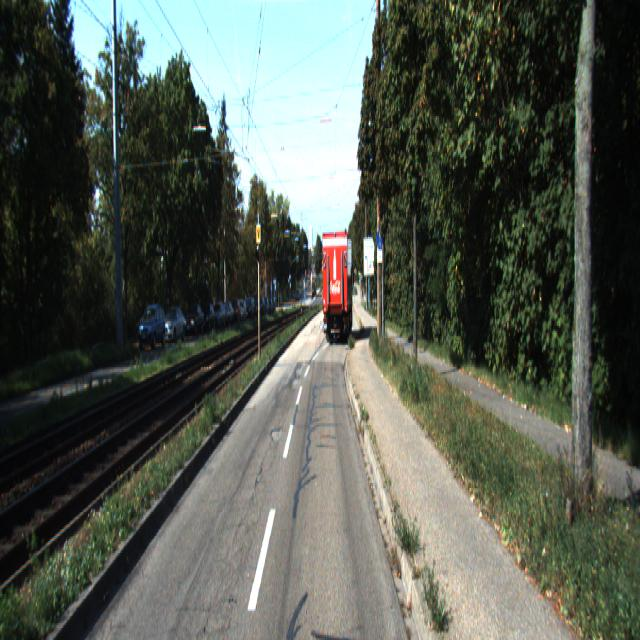Car: (320, 230, 354, 346), (138, 306, 168, 354), (158, 307, 185, 345), (182, 303, 204, 337)
